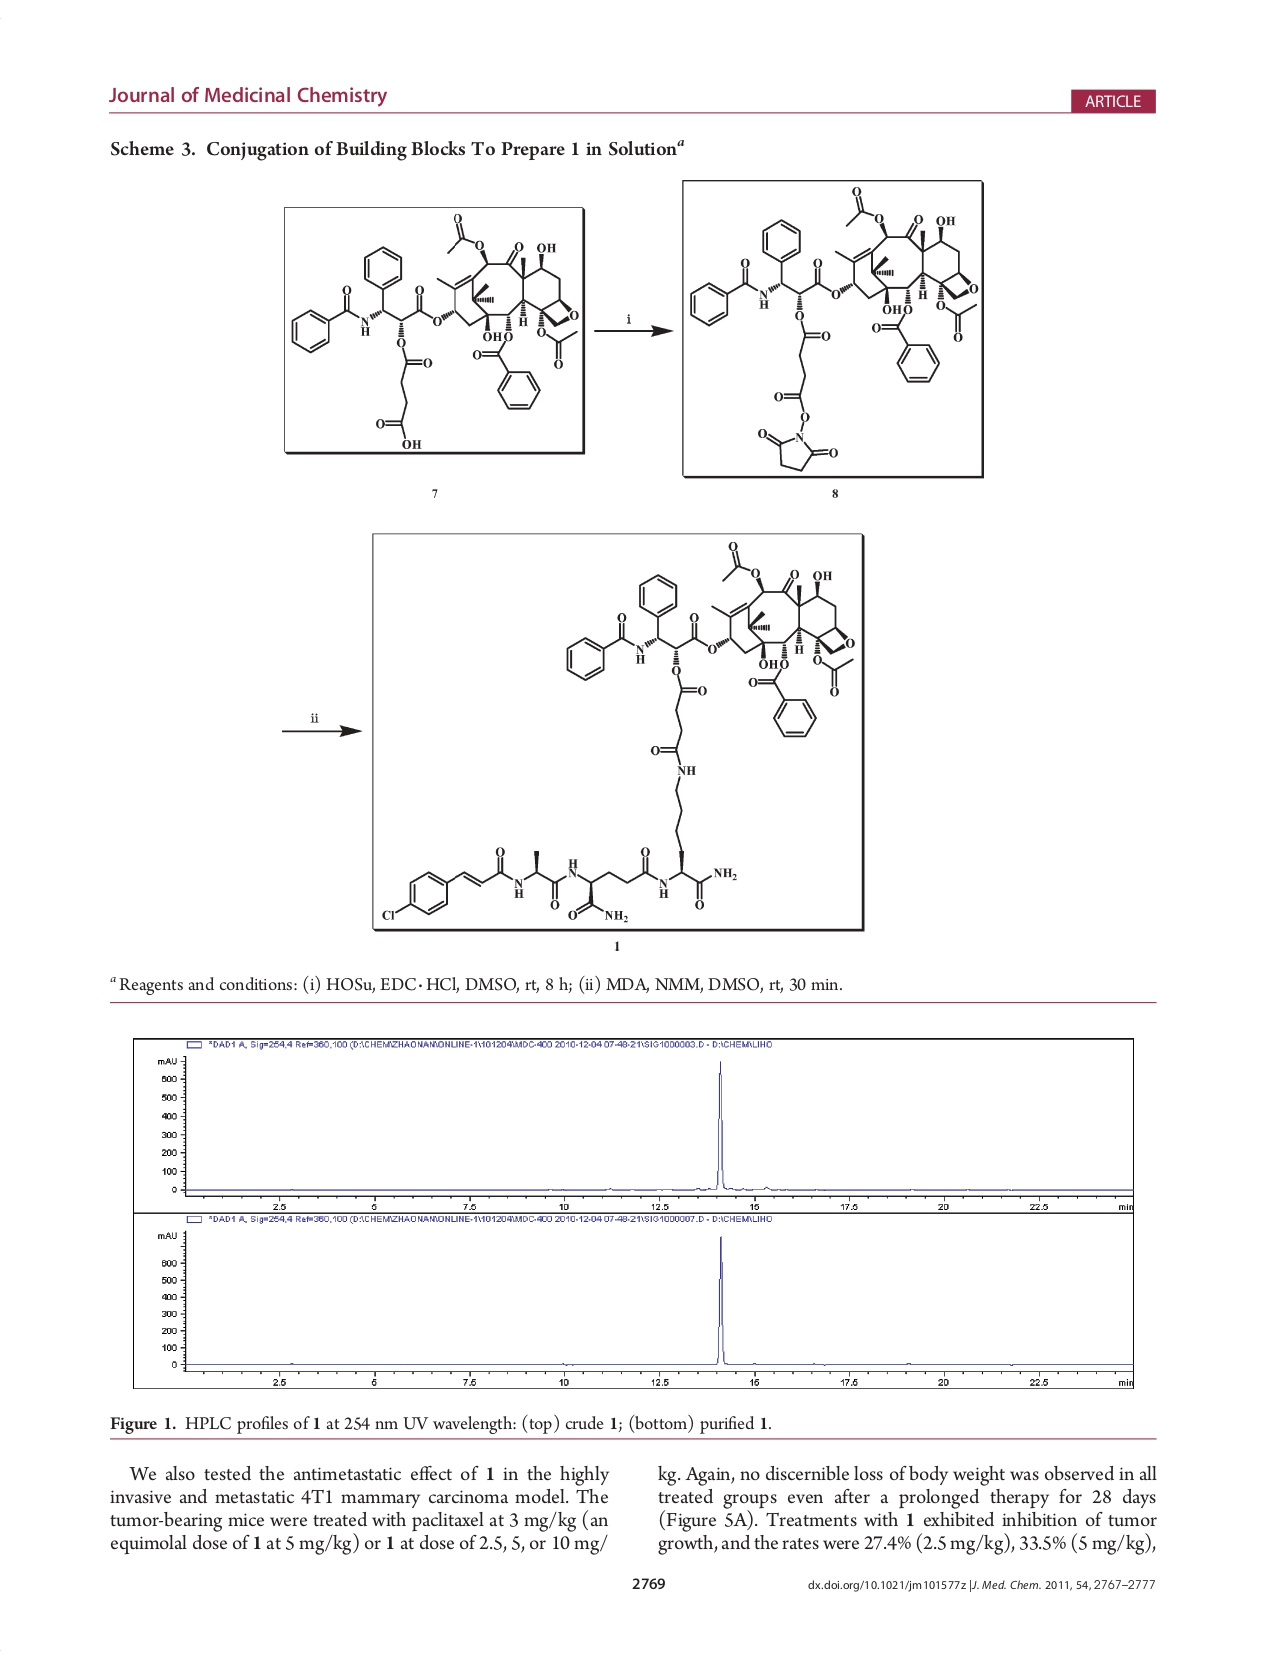exist_molecular: (378, 539, 858, 922), (686, 185, 979, 472), (289, 211, 580, 449)
